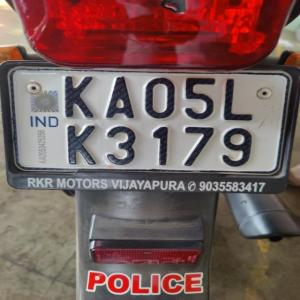Plate: (13, 63, 281, 175)
